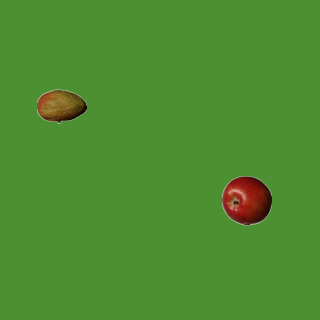Apple Braeburn: (221, 175, 271, 225)
Papaya: (36, 81, 86, 131)
